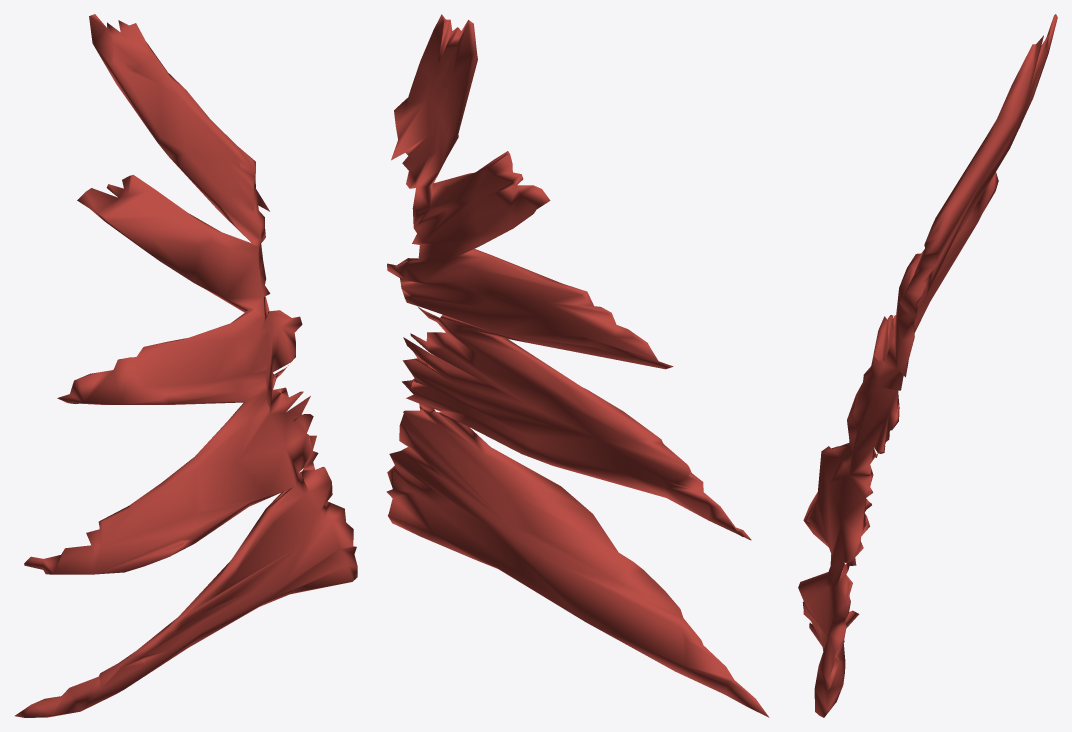
Rendered from musculos-transversus-thoracis-muscle-r.glb.
The picture shows the model from 3 angles, left to right: view 1: azimuth 30°, elevation 25°; view 2: azimuth 150°, elevation 25°; view 3: azimuth 270°, elevation 25°; orthographic projection. The views are drawn at different scales.
Visible parts, largest first — view 1: Transversus thoracis muscle.r; view 2: Transversus thoracis muscle.r; view 3: Transversus thoracis muscle.r.
Boxes of the visible parts, bbox=[...] form: Transversus thoracis muscle.r: bbox=[15, 14, 357, 717]; Transversus thoracis muscle.r: bbox=[386, 14, 769, 717]; Transversus thoracis muscle.r: bbox=[798, 14, 1057, 717].
Bounding box in the file's own units: 0.0855 × 0.149 × 0.0505.
